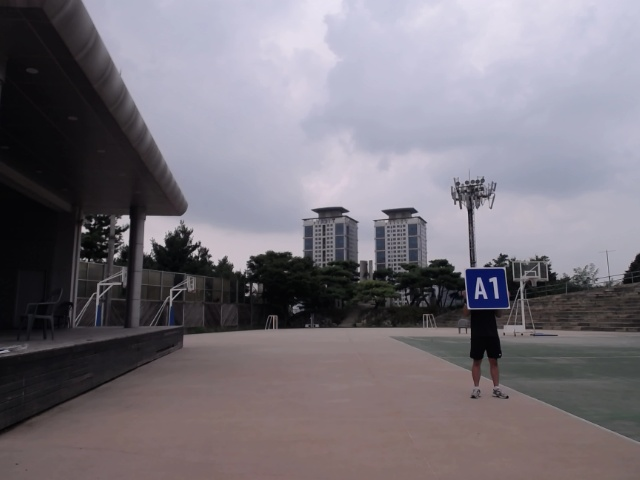delivery_a1: (465, 268, 511, 309)
